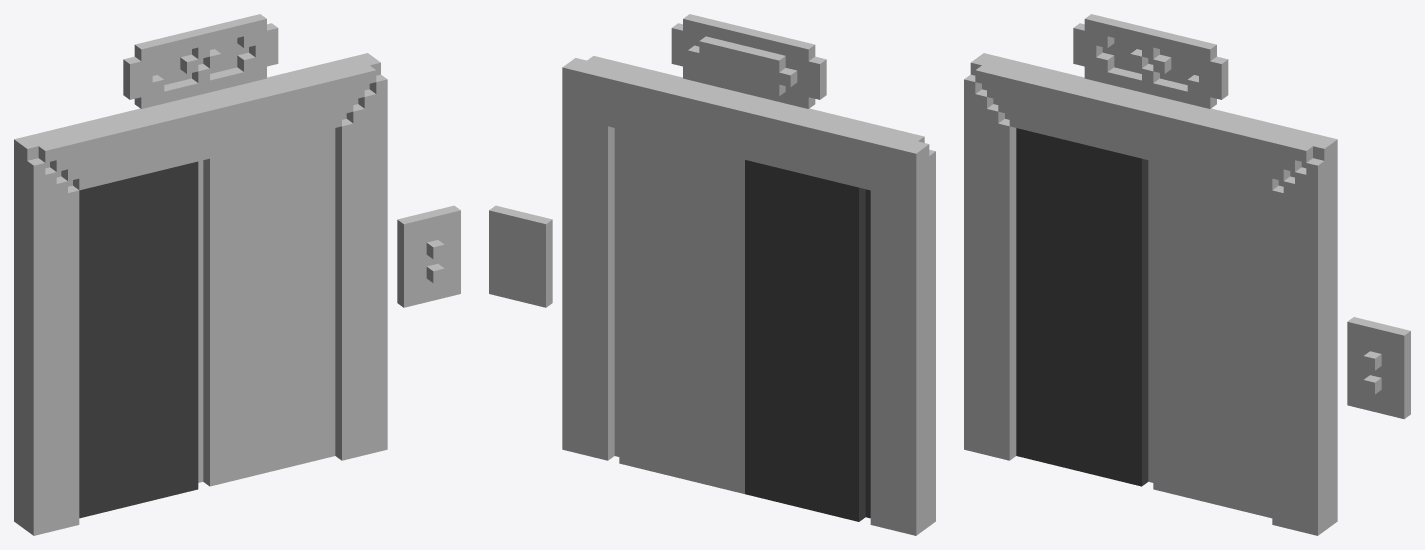
File: elevator.fbx
The picture shows the model from 3 angles, left to right: view 1: azimuth 30°, elevation 25°; view 2: azimuth 150°, elevation 25°; view 3: azimuth 330°, elevation 25°; orthographic projection.
Parts seen in each view (by area): view 1: Untitled.002, Untitled.001, Untitled, Untitled.003; view 2: Untitled.002, Untitled.001, Untitled; view 3: Untitled.002, Untitled, Untitled.001, Untitled.003.
Boxes of the visible parts, x1,y1,x2,y2 form: Untitled.002: (14,14,460,535); Untitled.001: (198,113,346,486); Untitled: (79,161,198,518); Untitled.003: (180,44,221,73); Untitled.002: (489,14,935,535); Untitled.001: (614,128,744,493); Untitled: (745,160,870,521); Untitled.002: (964,14,1410,535); Untitled: (1016,128,1148,486); Untitled.001: (1148,160,1283,518); Untitled.003: (1130,45,1171,73).
Bounding box in the file's own units: 380 × 380 × 30.
